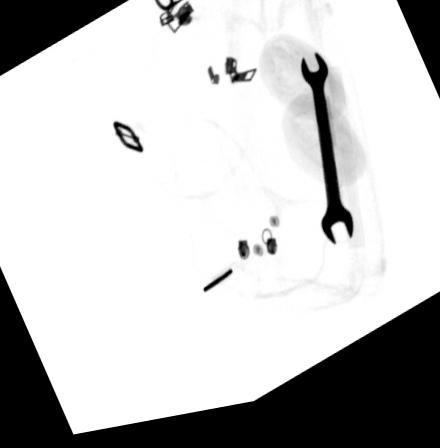Wrench: (298, 61, 354, 263)
